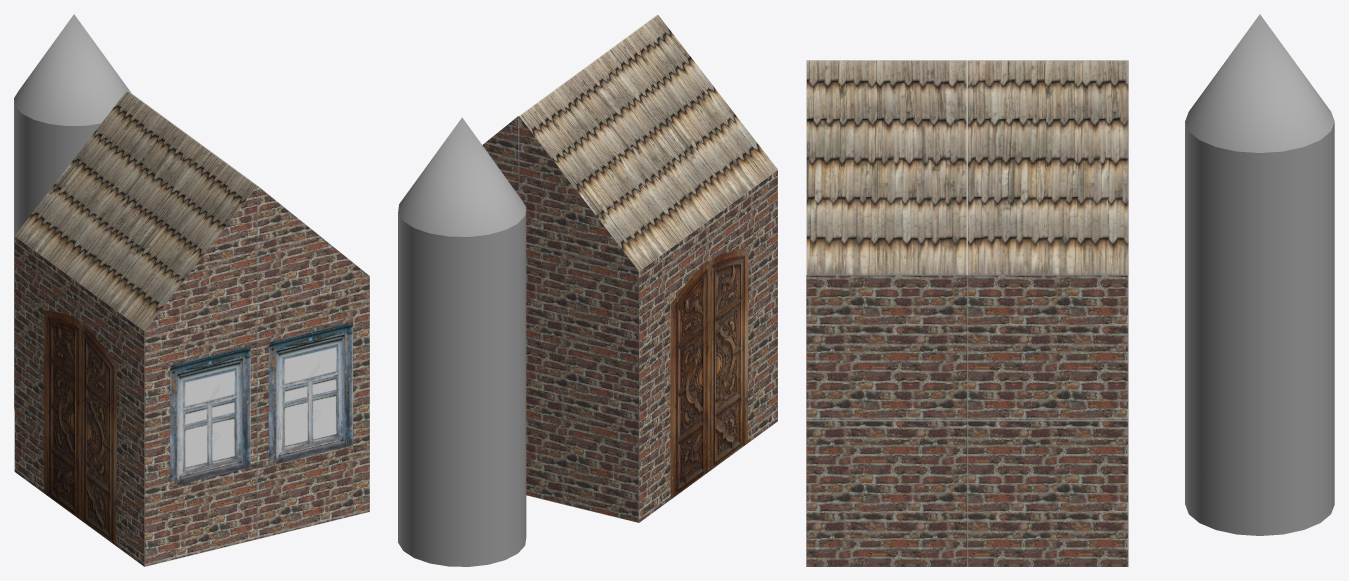
File: Farm.fbx
3 views of the same model, side by side, from view 1: azimuth 30°, elevation 25°; view 2: azimuth 150°, elevation 25°; view 3: azimuth 270°, elevation 25° (orthographic). The views are drawn at different scales.
Visible parts, largest first — view 1: pCube1, pCylinder1; view 2: pCube1, pCylinder1; view 3: pCube1, pCylinder1.
Boxes of the visible parts, x1,y1,x2,y2 form: pCube1: [14, 90, 369, 566]; pCylinder1: [14, 14, 130, 410]; pCube1: [482, 14, 777, 522]; pCylinder1: [398, 117, 526, 566]; pCube1: [806, 60, 1128, 566]; pCylinder1: [1185, 14, 1334, 535].
Bounding box in the file's own units: 1 × 1.68 × 1.64.
